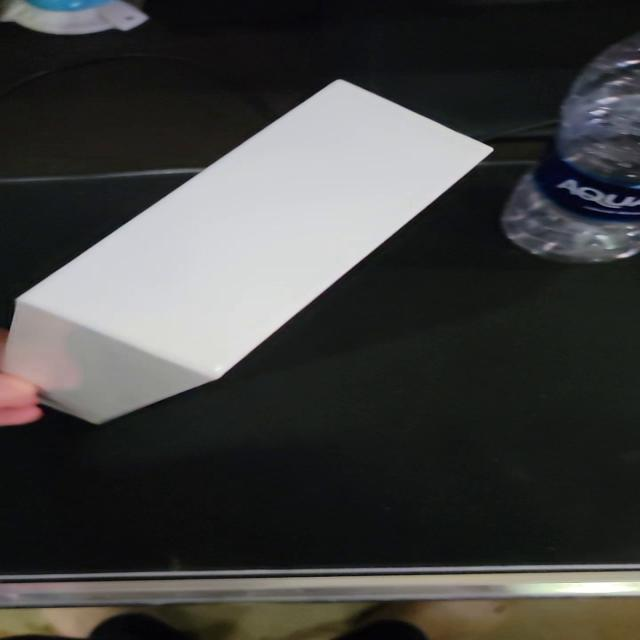Anorganik: (498, 33, 640, 270)
Organik: (0, 72, 498, 436)
